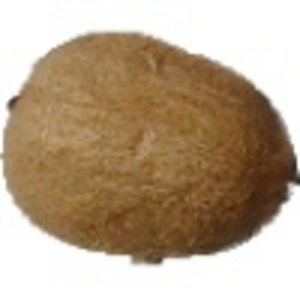kiwi: (1, 28, 300, 268)
